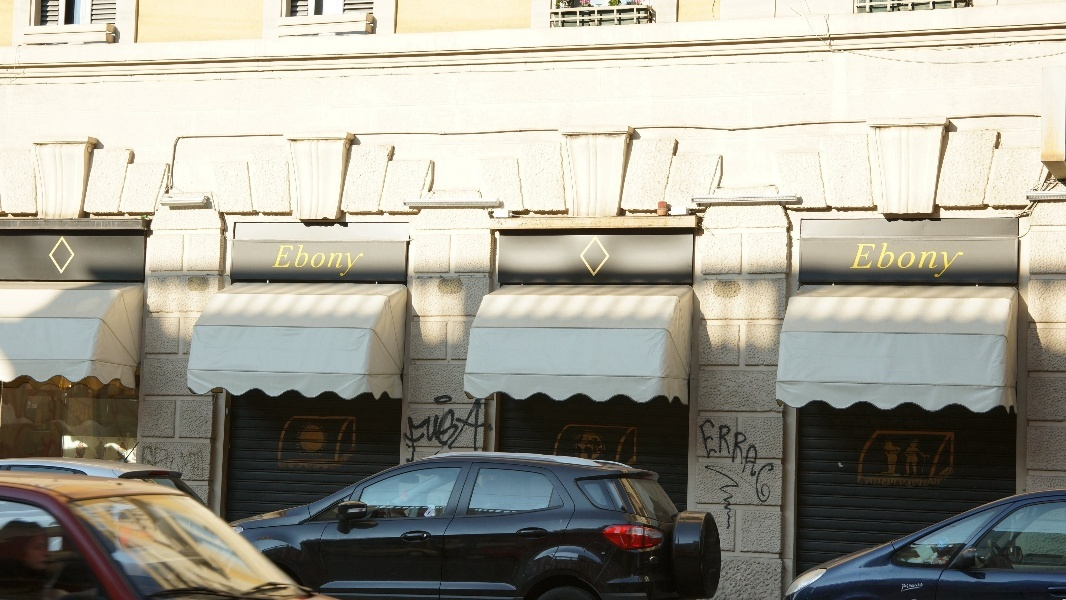text: (769, 402, 785, 505), (721, 402, 736, 505), (737, 402, 752, 505), (753, 402, 768, 505), (417, 398, 432, 465), (433, 398, 448, 465), (449, 398, 464, 465), (465, 398, 480, 465), (404, 398, 416, 465), (714, 402, 720, 505), (865, 239, 880, 279), (881, 239, 896, 279), (897, 239, 912, 279), (913, 239, 928, 279), (929, 239, 944, 279), (945, 239, 960, 279), (289, 240, 304, 278), (305, 240, 320, 278), (321, 240, 336, 278), (337, 240, 352, 278), (353, 240, 365, 278), (280, 240, 288, 278), (961, 239, 968, 279), (859, 239, 864, 279), (481, 398, 483, 465), (913, 583, 924, 592), (902, 583, 912, 592)
